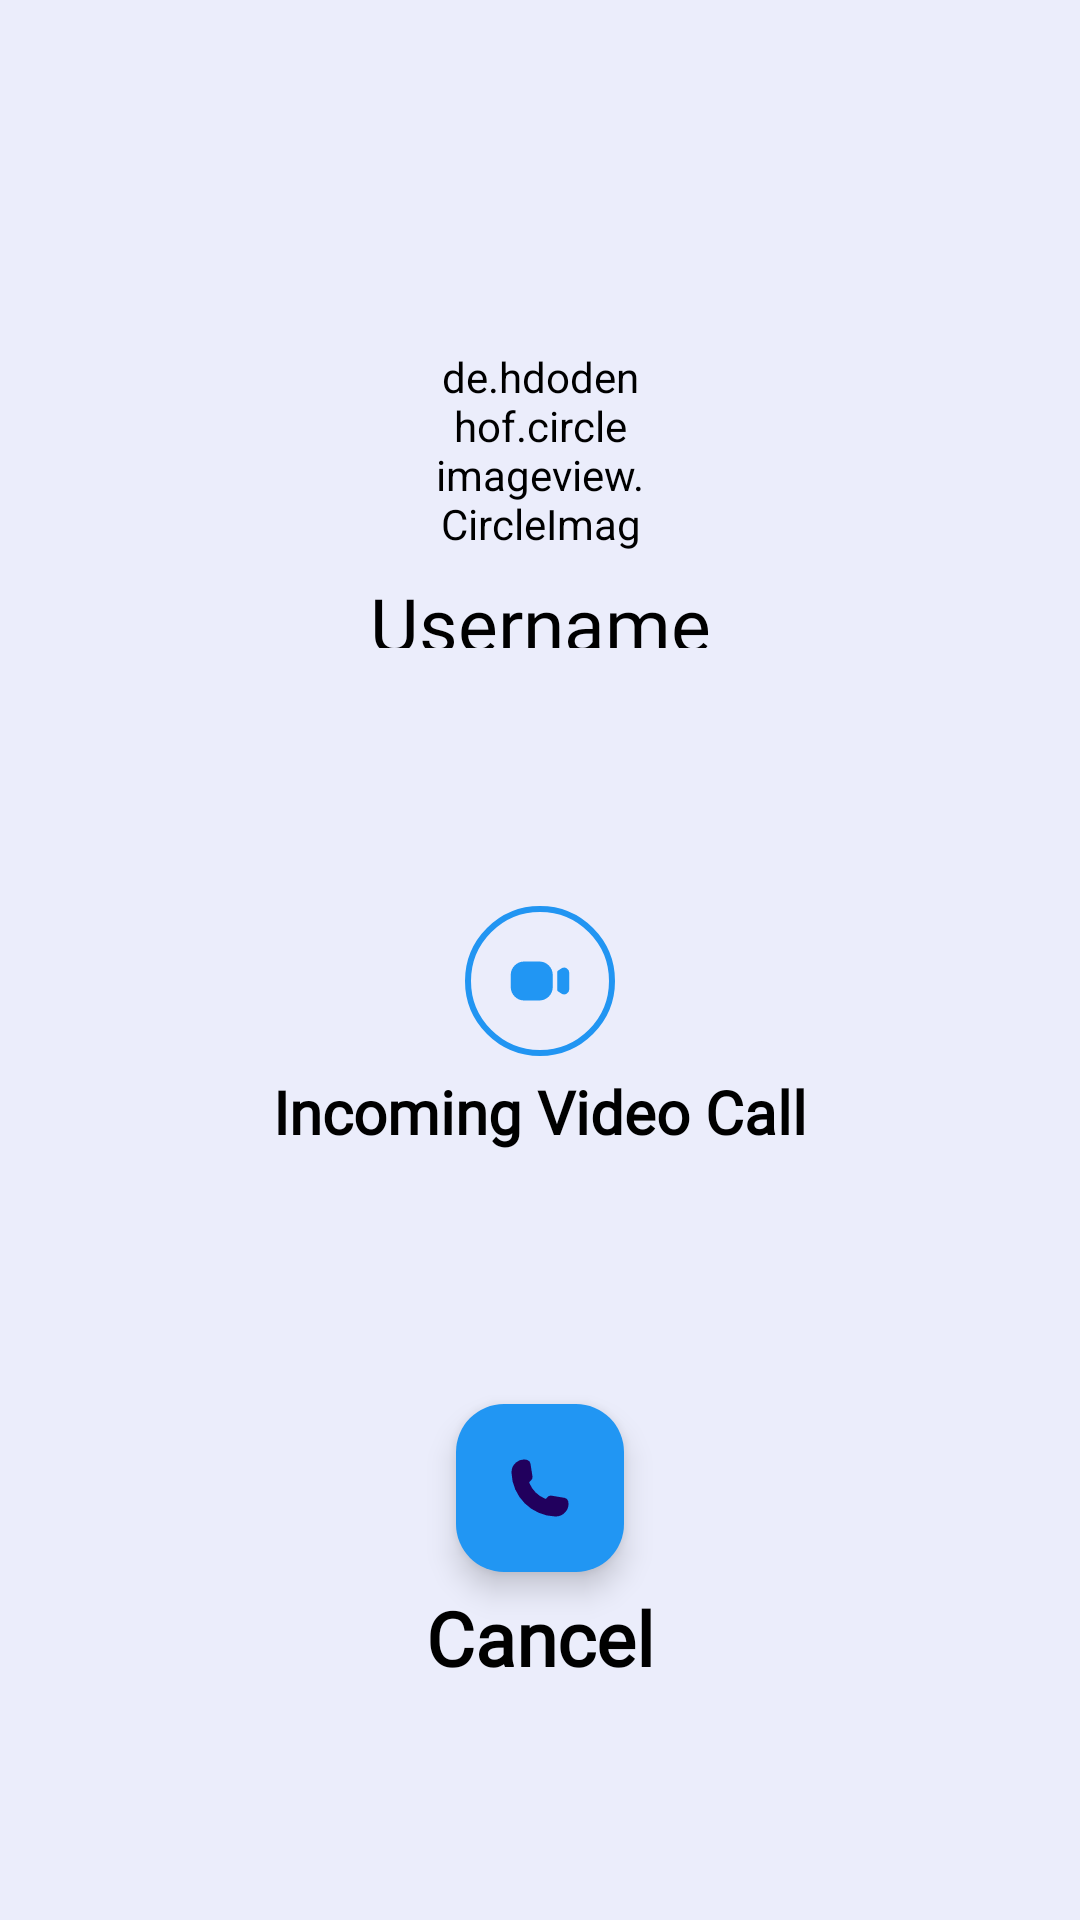

Point at icon controls on the screen. Image size 1080x1920, points as point (x, y).
call: point (540, 1488)
